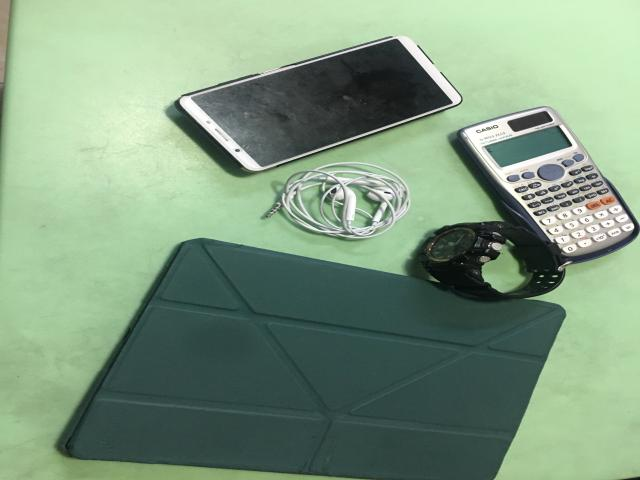Mobile phone: (178, 36, 462, 172)
Watch: (422, 221, 565, 298)
wire: (265, 162, 410, 239)
